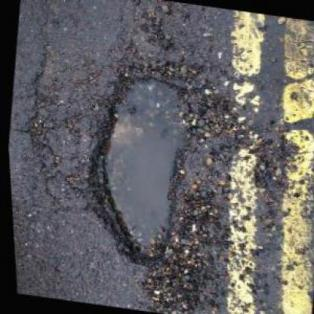Hueco: (65, 52, 214, 273)
